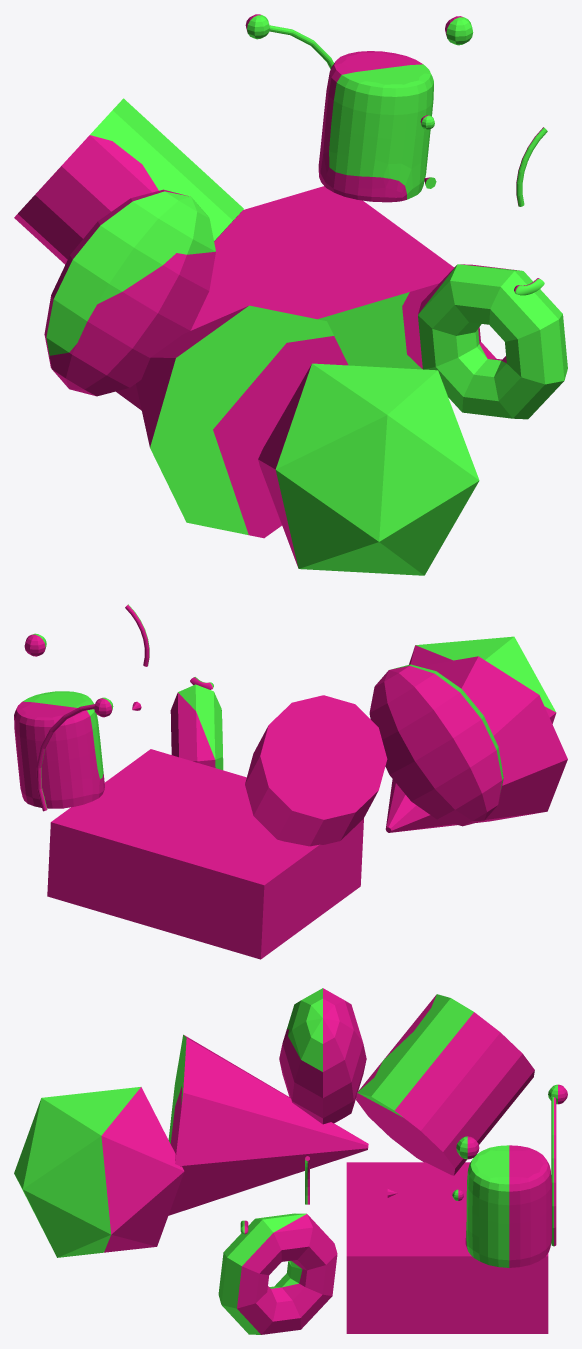
The model's file is SM_Ana_Snail.fbx.
The picture shows the model from 3 angles, top to bottom: view 1: azimuth 30°, elevation 25°; view 2: azimuth 150°, elevation 25°; view 3: azimuth 270°, elevation 25°; orthographic projection. The views are drawn at different scales.
Parts seen in each view (by area): view 1: Icosphere.003, Cone.004, Cube.005, Sphere.003, Torus.004, Cylinder.005, Cylinder.002; view 2: Cube.005, Cylinder.002, Sphere.003, Cone.004, Cylinder.005, Torus.004, Icosphere.003, Cylinder.006; view 3: Cube.005, Icosphere.003, Cylinder.002, Cone.004, Torus.004, Cylinder.005, Sphere.003, Cylinder.006.
Part boxes in pixels (bbox=[...]): Icosphere.003: bbox=[258, 363, 479, 575]; Cone.004: bbox=[136, 305, 348, 538]; Cube.005: bbox=[116, 186, 453, 410]; Sphere.003: bbox=[44, 189, 215, 396]; Torus.004: bbox=[418, 264, 567, 419]; Cylinder.005: bbox=[318, 51, 433, 202]; Cylinder.002: bbox=[14, 98, 243, 264]; Cube.005: bbox=[47, 749, 363, 959]; Cylinder.002: bbox=[245, 695, 387, 846]; Sphere.003: bbox=[369, 664, 503, 826]; Cone.004: bbox=[385, 656, 567, 832]; Cylinder.005: bbox=[14, 691, 104, 808]; Torus.004: bbox=[170, 684, 223, 770]; Icosphere.003: bbox=[409, 636, 556, 723]; Cylinder.006: bbox=[36, 704, 94, 811]; Cube.005: bbox=[346, 1162, 548, 1333]; Icosphere.003: bbox=[14, 1087, 184, 1257]; Cylinder.002: bbox=[356, 994, 534, 1175]; Cone.004: bbox=[168, 1034, 368, 1215]; Torus.004: bbox=[218, 1213, 337, 1334]; Cylinder.005: bbox=[465, 1145, 551, 1267]; Sphere.003: bbox=[279, 988, 366, 1124]; Cylinder.006: bbox=[551, 1097, 556, 1246].
Size of the model in its own units: 163 by 89.84 by 191.
